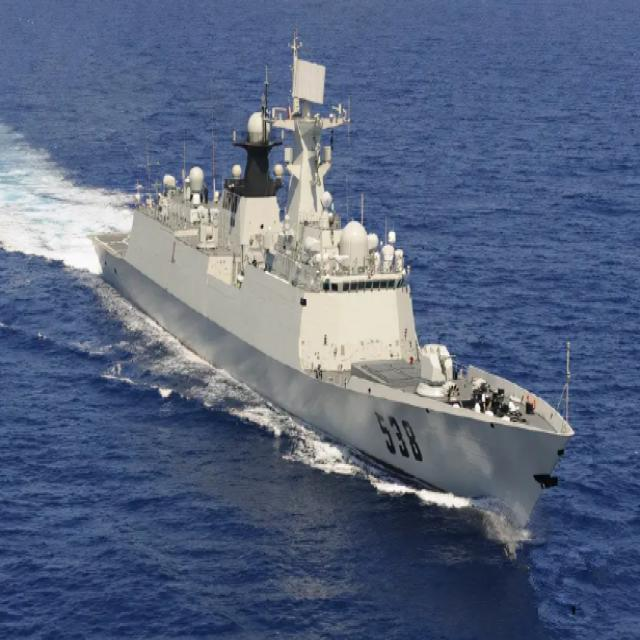navalvessels: (89, 34, 579, 521)
